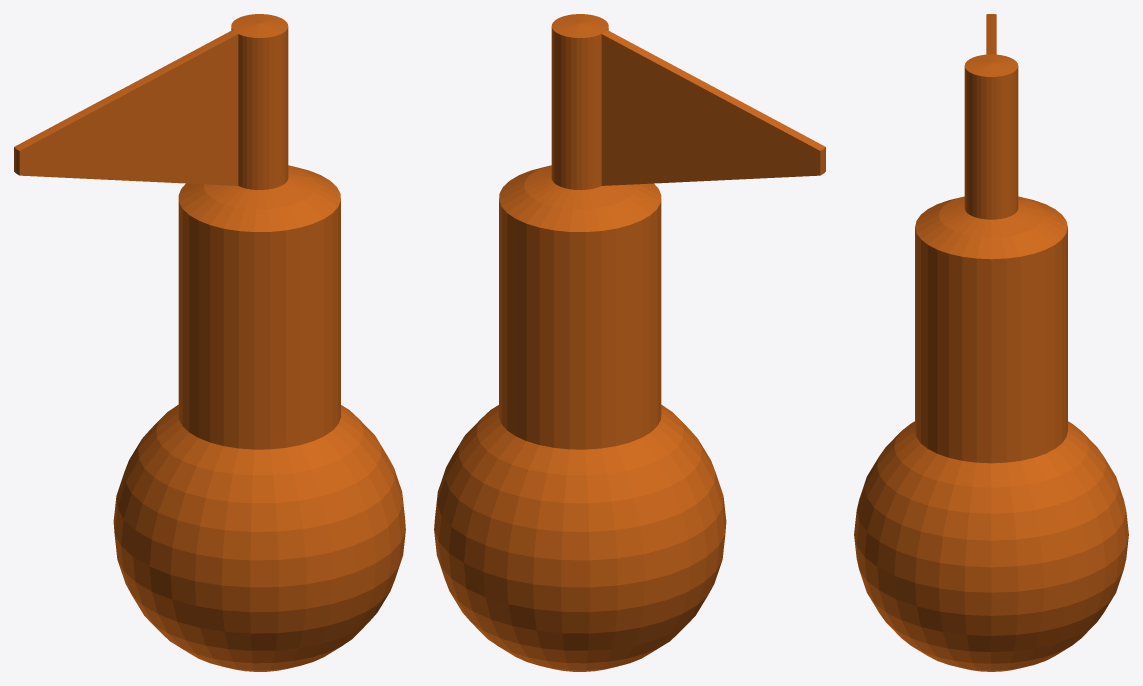
Rendered from floating_flag.gltf.
3 views of the same model, side by side, from view 1: azimuth 30°, elevation 25°; view 2: azimuth 150°, elevation 25°; view 3: azimuth 270°, elevation 25° (orthographic). The views are drawn at different scales.
Parts seen in each view (by area): view 1: floating_flag; view 2: floating_flag; view 3: floating_flag.
Boxes of the visible parts, x1,y1,x2,y2 form: floating_flag: [14, 14, 405, 671]; floating_flag: [434, 14, 825, 671]; floating_flag: [854, 14, 1128, 671].
Bounding box in the file's own units: 0.4378 × 0.7174 × 0.3.
